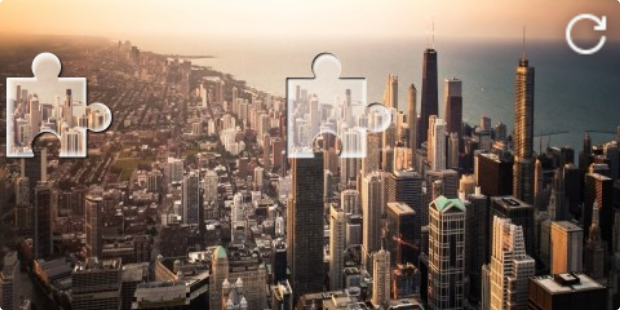target: (287, 52, 389, 158)
